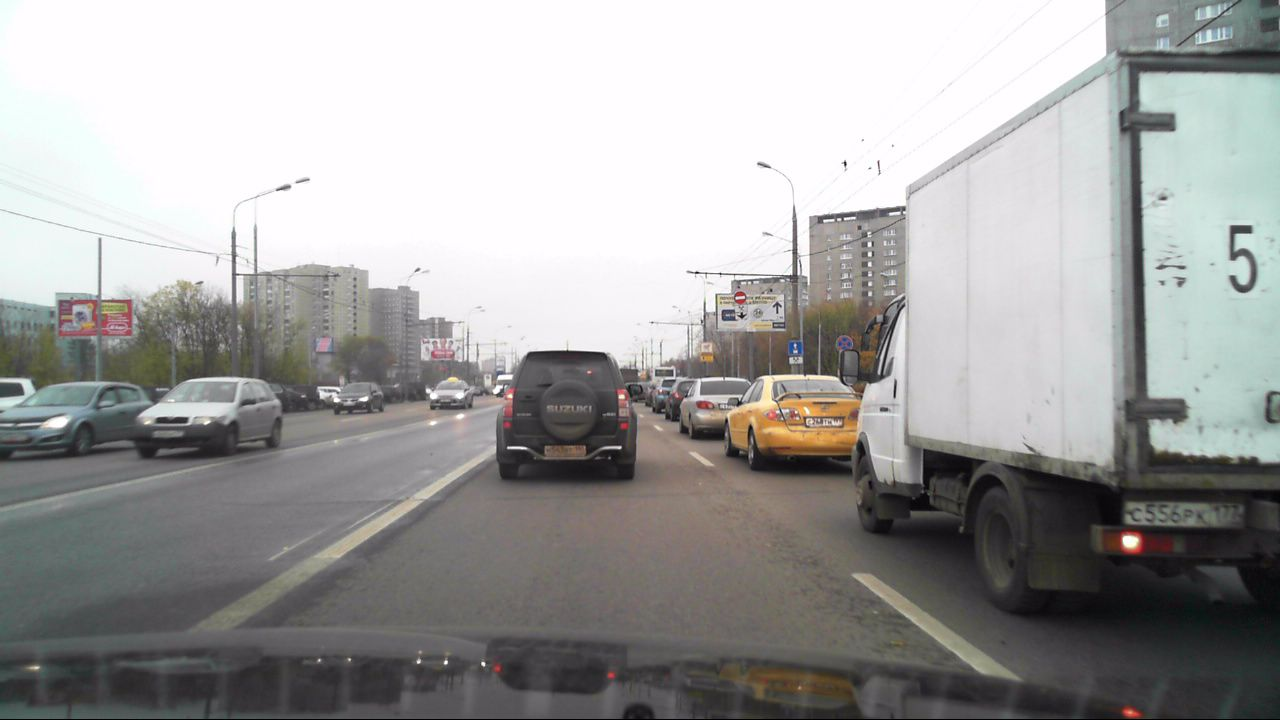No Parking: (834, 334, 854, 353)
